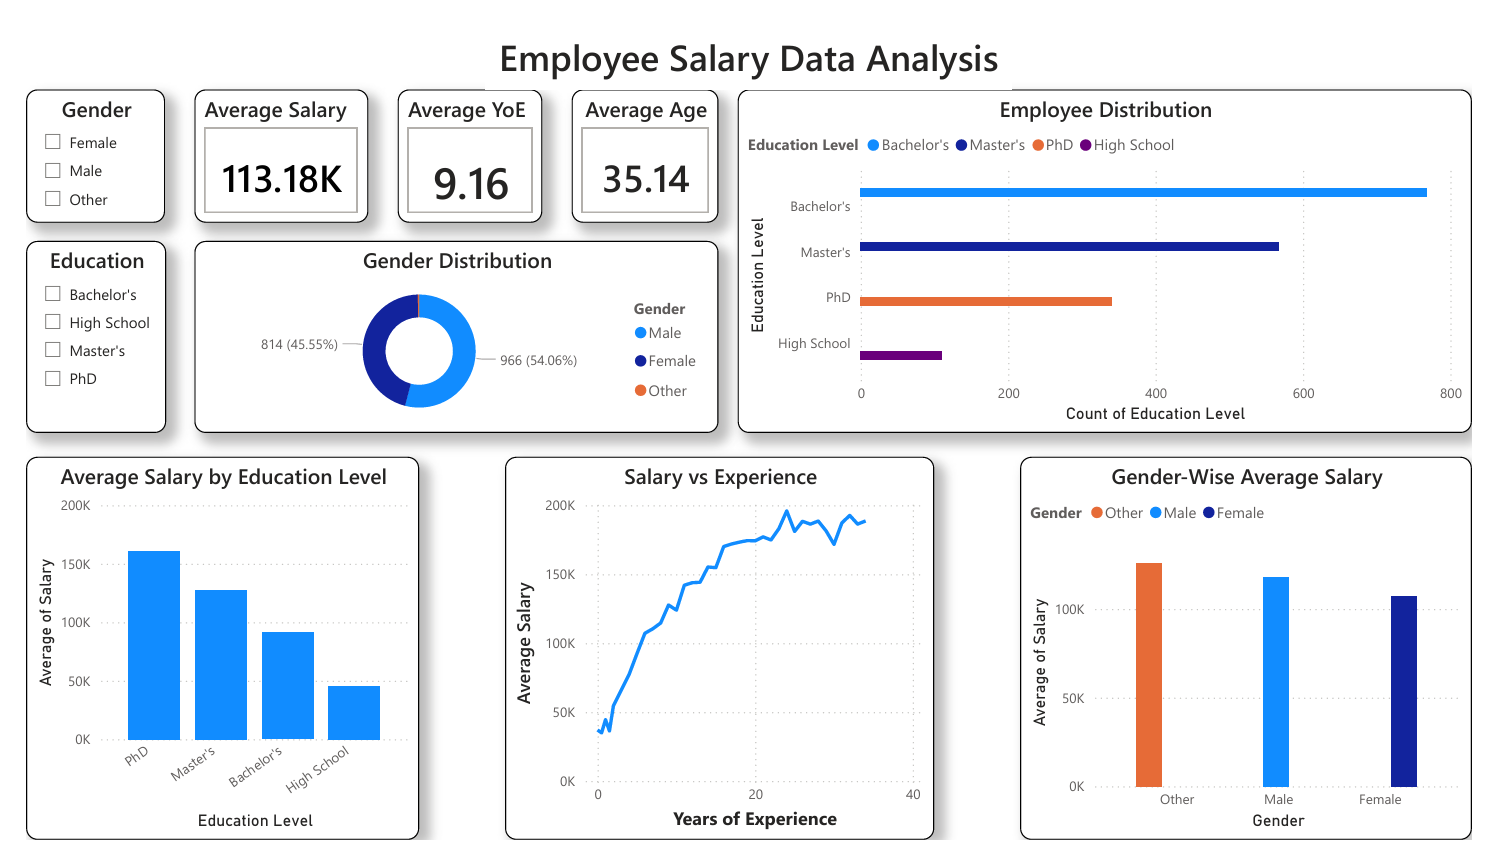

This screenshot's page, from the dashboard's own definition file:
{"tool":"powerbi","page":{"name":"Dashboard","canvas":[1280,720],"ordinal":0},"visuals":[{"type":"cardVisual","title":"Average Salary","fields":{"Data":["Avg(Cleaned_Data.Salary)"]},"box":[149.3,55.6,153.3,118.9],"z":0},{"type":"cardVisual","title":"Average YoE","fields":{"Data":["Avg(Cleaned_Data.Years of Experience)"]},"box":[328.5,55.6,128.9,118.9],"z":1000},{"type":"cardVisual","title":"Average Age","fields":{"Data":["Avg(Cleaned_Data.Age)"]},"box":[483.3,55.6,130,118.9],"z":2000},{"type":"donutChart","title":"Gender Distribution","fields":{"Category":["Cleaned_Data.Gender"],"Y":["CountNonNull(Cleaned_Data.Gender)"]},"box":[148.9,190,464.4,170],"z":3000},{"type":"clusteredBarChart","title":"Employee Distribution","fields":{"Category":["Cleaned_Data.Education Level"],"Series":["Cleaned_Data.Education Level"],"Y":["CountNonNull(Cleaned_Data.Education Level)"]},"box":[630,56,650,304],"z":4000},{"type":"clusteredColumnChart","title":"Gender-Wise Average Salary","fields":{"Y":["Avg(Cleaned_Data.Salary)"],"Category":["Cleaned_Data.Gender"],"Series":["Cleaned_Data.Gender"]},"box":[880,381,400,339],"z":5000},{"type":"clusteredColumnChart","title":"Average Salary by Education Level","fields":{"Y":["Avg(Cleaned_Data.Salary)"],"Category":["Cleaned_Data.Education Level"]},"box":[0,381,348,339],"z":6000},{"type":"lineChart","title":"Salary vs Experience","fields":{"Category":["Cleaned_Data.Years of Experience"],"Y":["select","Avg(Cleaned_Data.Salary)"]},"box":[424,381,380,339],"z":7000},{"type":"textbox","box":[406.7,0,466.7,55.6],"z":8000},{"type":"slicer","title":"Gender","fields":{"Values":["Cleaned_Data.Gender"]},"box":[0,55.6,123.3,118.9],"z":9000},{"type":"slicer","title":"Education","fields":{"Values":["Cleaned_Data.Education Level"]},"box":[0,190,123.6,170],"z":10001}]}

Visuals, with their boxes in screenshot pixels (x1, y1, x2, y2), scaled from the page's 1280x720 canvas onto the 1496x866 screenshot:
"Average Salary" cardVisual: locate(174, 67, 354, 210)
"Average YoE" cardVisual: locate(384, 67, 535, 210)
"Average Age" cardVisual: locate(565, 67, 717, 210)
"Gender Distribution" donutChart: locate(174, 229, 717, 433)
"Employee Distribution" clusteredBarChart: locate(736, 67, 1495, 433)
"Gender-Wise Average Salary" clusteredColumnChart: locate(1028, 458, 1495, 865)
"Average Salary by Education Level" clusteredColumnChart: locate(0, 458, 407, 865)
"Salary vs Experience" lineChart: locate(496, 458, 940, 865)
textbox: locate(475, 0, 1021, 67)
"Gender" slicer: locate(0, 67, 144, 210)
"Education" slicer: locate(0, 229, 144, 433)
